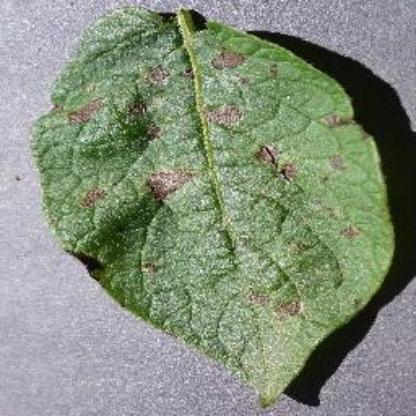Early-Blight: (31, 6, 396, 408)
